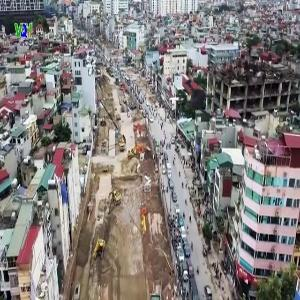drone: (161, 70, 225, 134)
